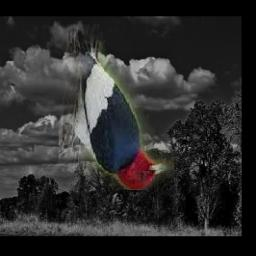Woodpecker: (59, 25, 174, 191)
